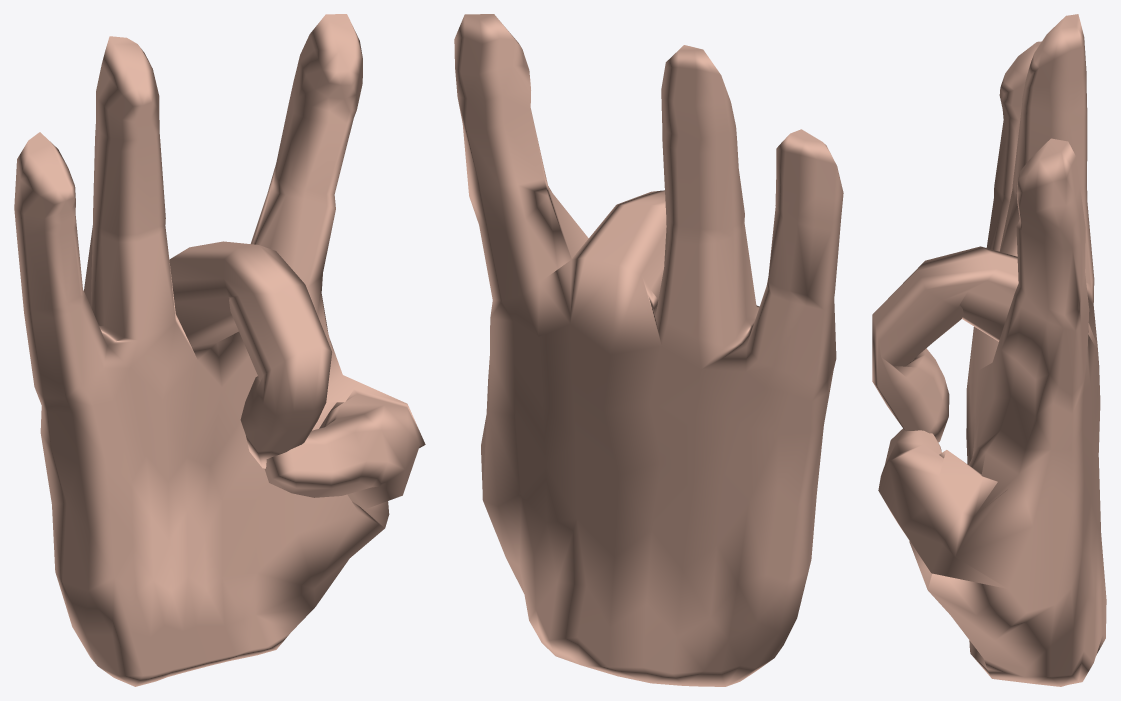
The model's file is MAO_SO.obj.
3 renders of one model, left to right at view 1: azimuth 30°, elevation 25°; view 2: azimuth 150°, elevation 25°; view 3: azimuth 270°, elevation 25°, orthographic. The views are drawn at different scales.
Visible parts, largest first — view 1: mao_dir:mao_dir; view 2: mao_dir:mao_dir; view 3: mao_dir:mao_dir.
Boxes of the visible parts, x1,y1,x2,y2 form: mao_dir:mao_dir: [14, 14, 425, 686]; mao_dir:mao_dir: [454, 14, 843, 686]; mao_dir:mao_dir: [872, 14, 1106, 686].
Bounding box in the file's own units: 147 × 234 × 81.83.
